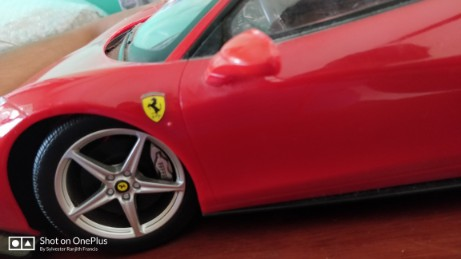unaligned_wheel: (24, 112, 201, 259)
